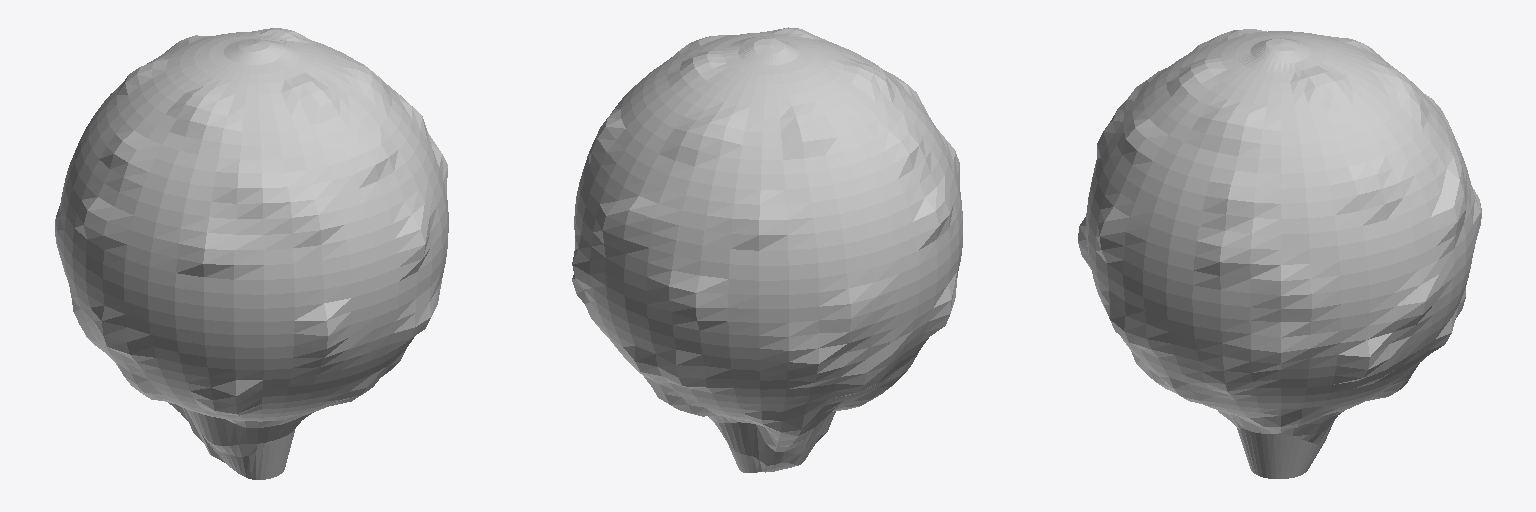
Rendered from wilke3.obj.
3 views of the same model, side by side, from view 1: azimuth 30°, elevation 25°; view 2: azimuth 150°, elevation 25°; view 3: azimuth 270°, elevation 25° (orthographic).
Parts seen in each view (by area): view 1: pSphere1; view 2: pSphere1; view 3: pSphere1.
Part boxes in pixels (left/top/right/bottom): pSphere1: left=55, top=28, right=448, bottom=479; pSphere1: left=572, top=27, right=962, bottom=472; pSphere1: left=1078, top=29, right=1481, bottom=478.
Bounding box in the file's own units: 12.03 × 14.15 × 12.25.